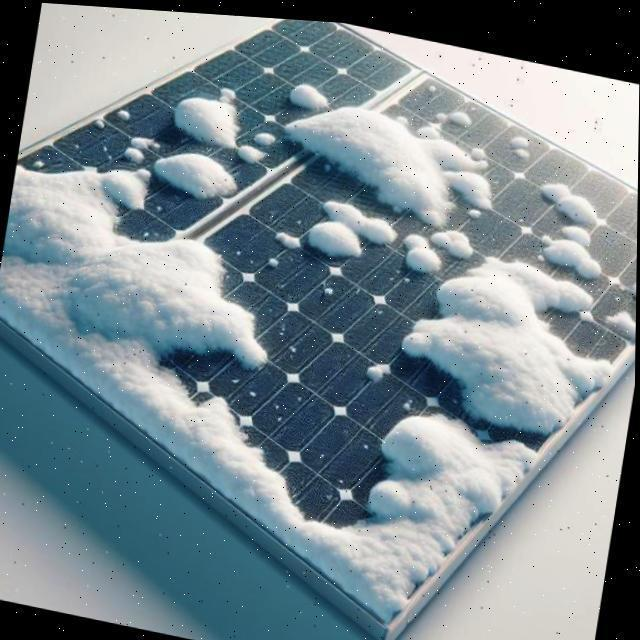Anomaly Solar Panel: (0, 15, 638, 625)
Snow: (0, 102, 543, 637), (389, 207, 637, 461), (270, 75, 507, 233), (300, 184, 400, 278), (530, 209, 608, 289), (167, 72, 248, 147), (150, 138, 243, 203), (535, 165, 607, 225), (395, 221, 444, 275), (231, 120, 284, 167), (427, 213, 479, 258), (116, 122, 161, 167), (285, 73, 333, 114), (601, 292, 637, 341), (360, 352, 389, 380), (505, 126, 531, 153), (433, 102, 471, 119), (273, 227, 302, 246), (113, 103, 132, 122), (265, 250, 282, 266), (90, 114, 106, 130), (628, 265, 637, 287)
